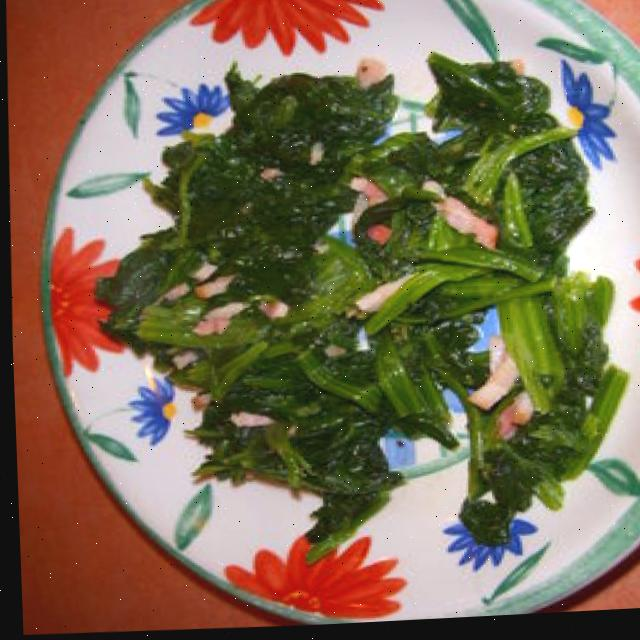蔬菜料理: (59, 7, 640, 598)
